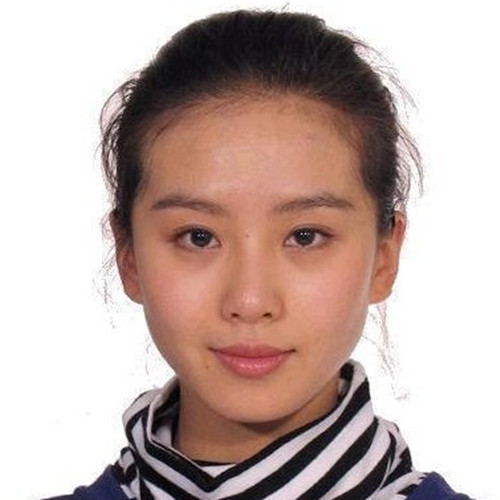unmask: (138, 131, 383, 388)
